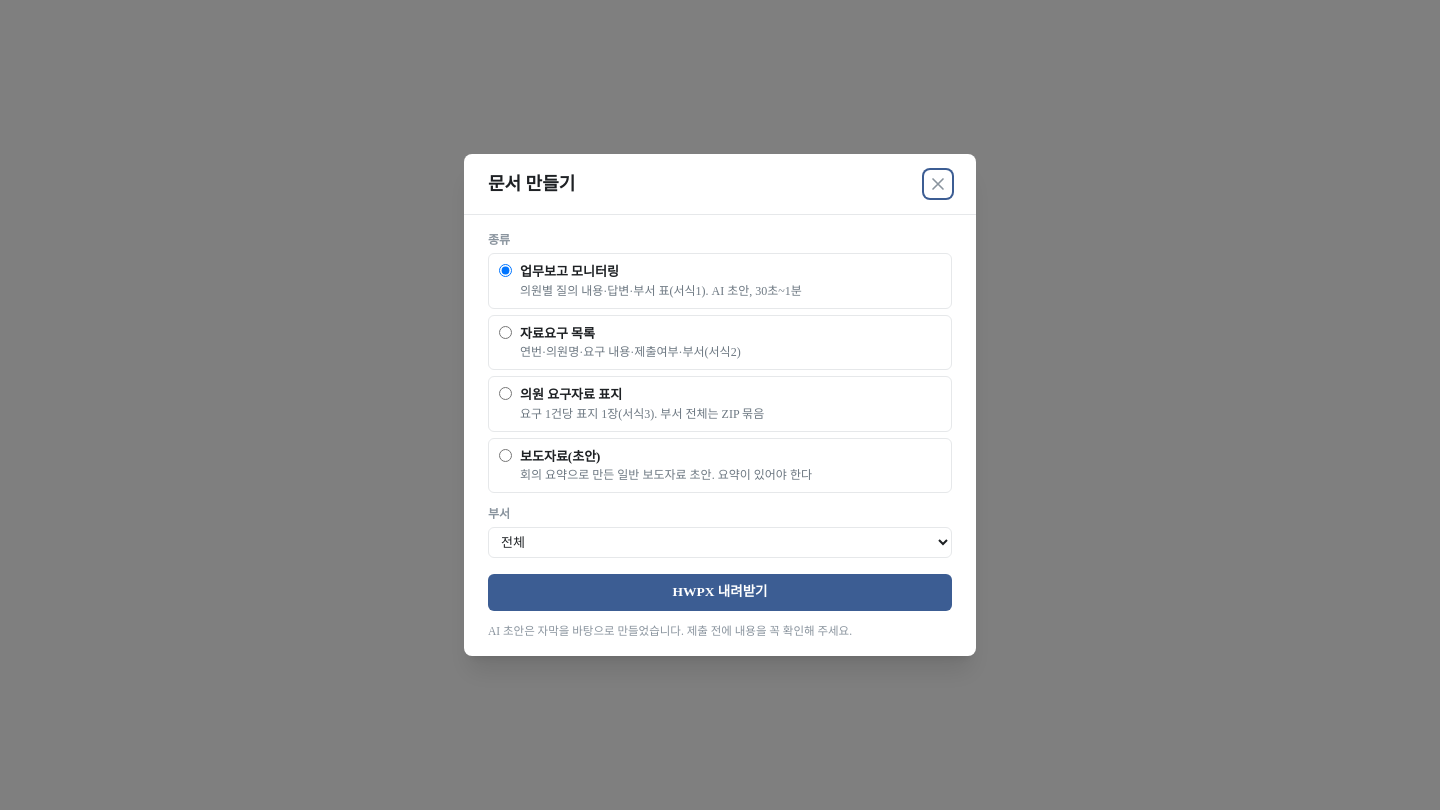
Test: MeetingDocumentsModal › shows server errors and permission errors
The width and height of the screenshot is (1440, 810).
Click the text "자료요구 목록" at [558, 333], box [520, 326, 595, 341]
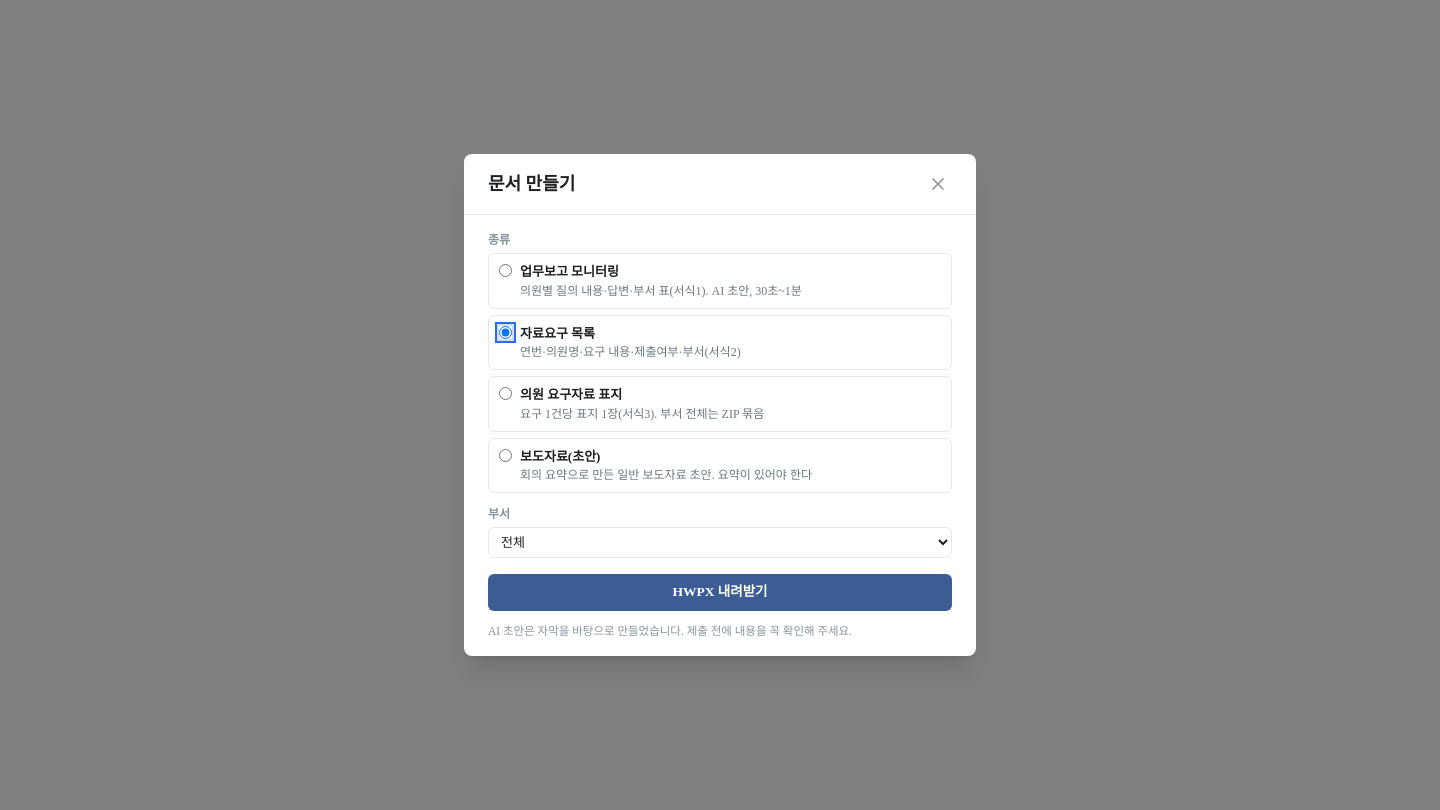
Click the button with test id "meeting-documents-make" at [720, 592], box [488, 574, 952, 611]
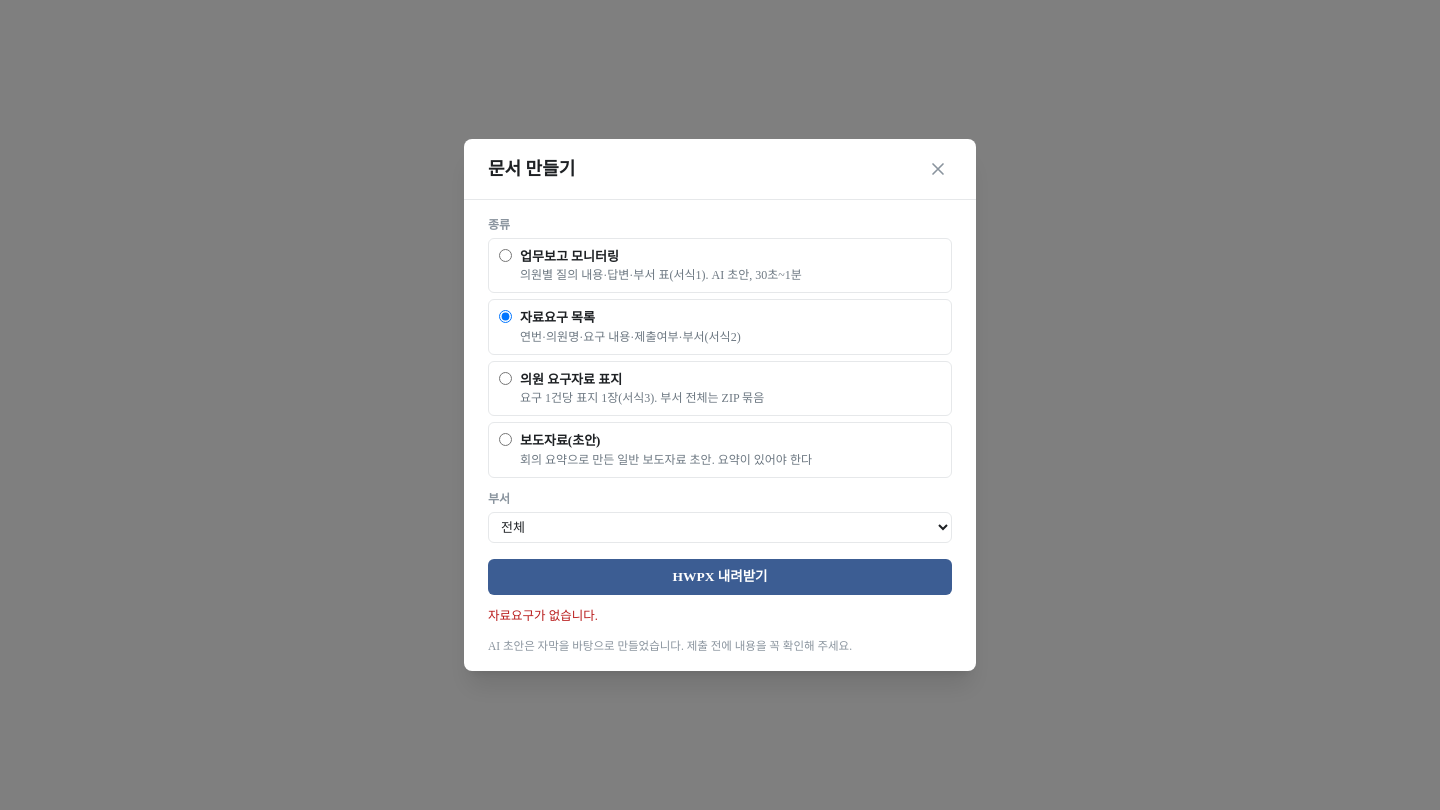
Now the message reads "자료요구가 없습니다.", box [488, 609, 598, 623]
